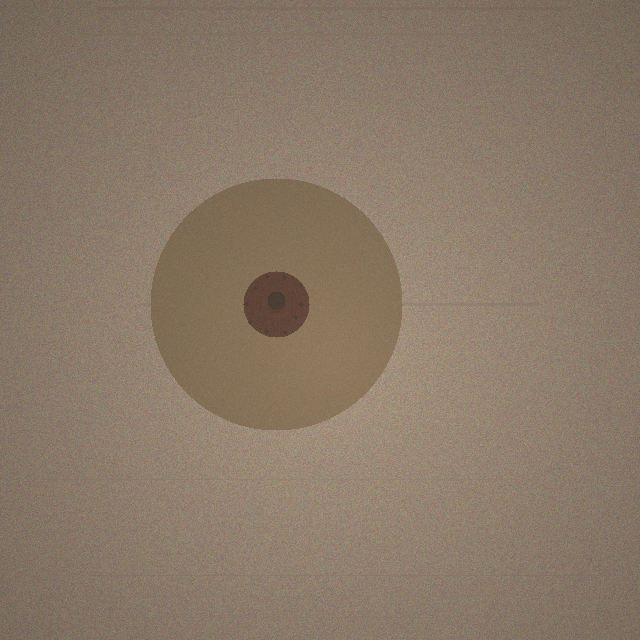cold_weld: (150, 178, 402, 430)
